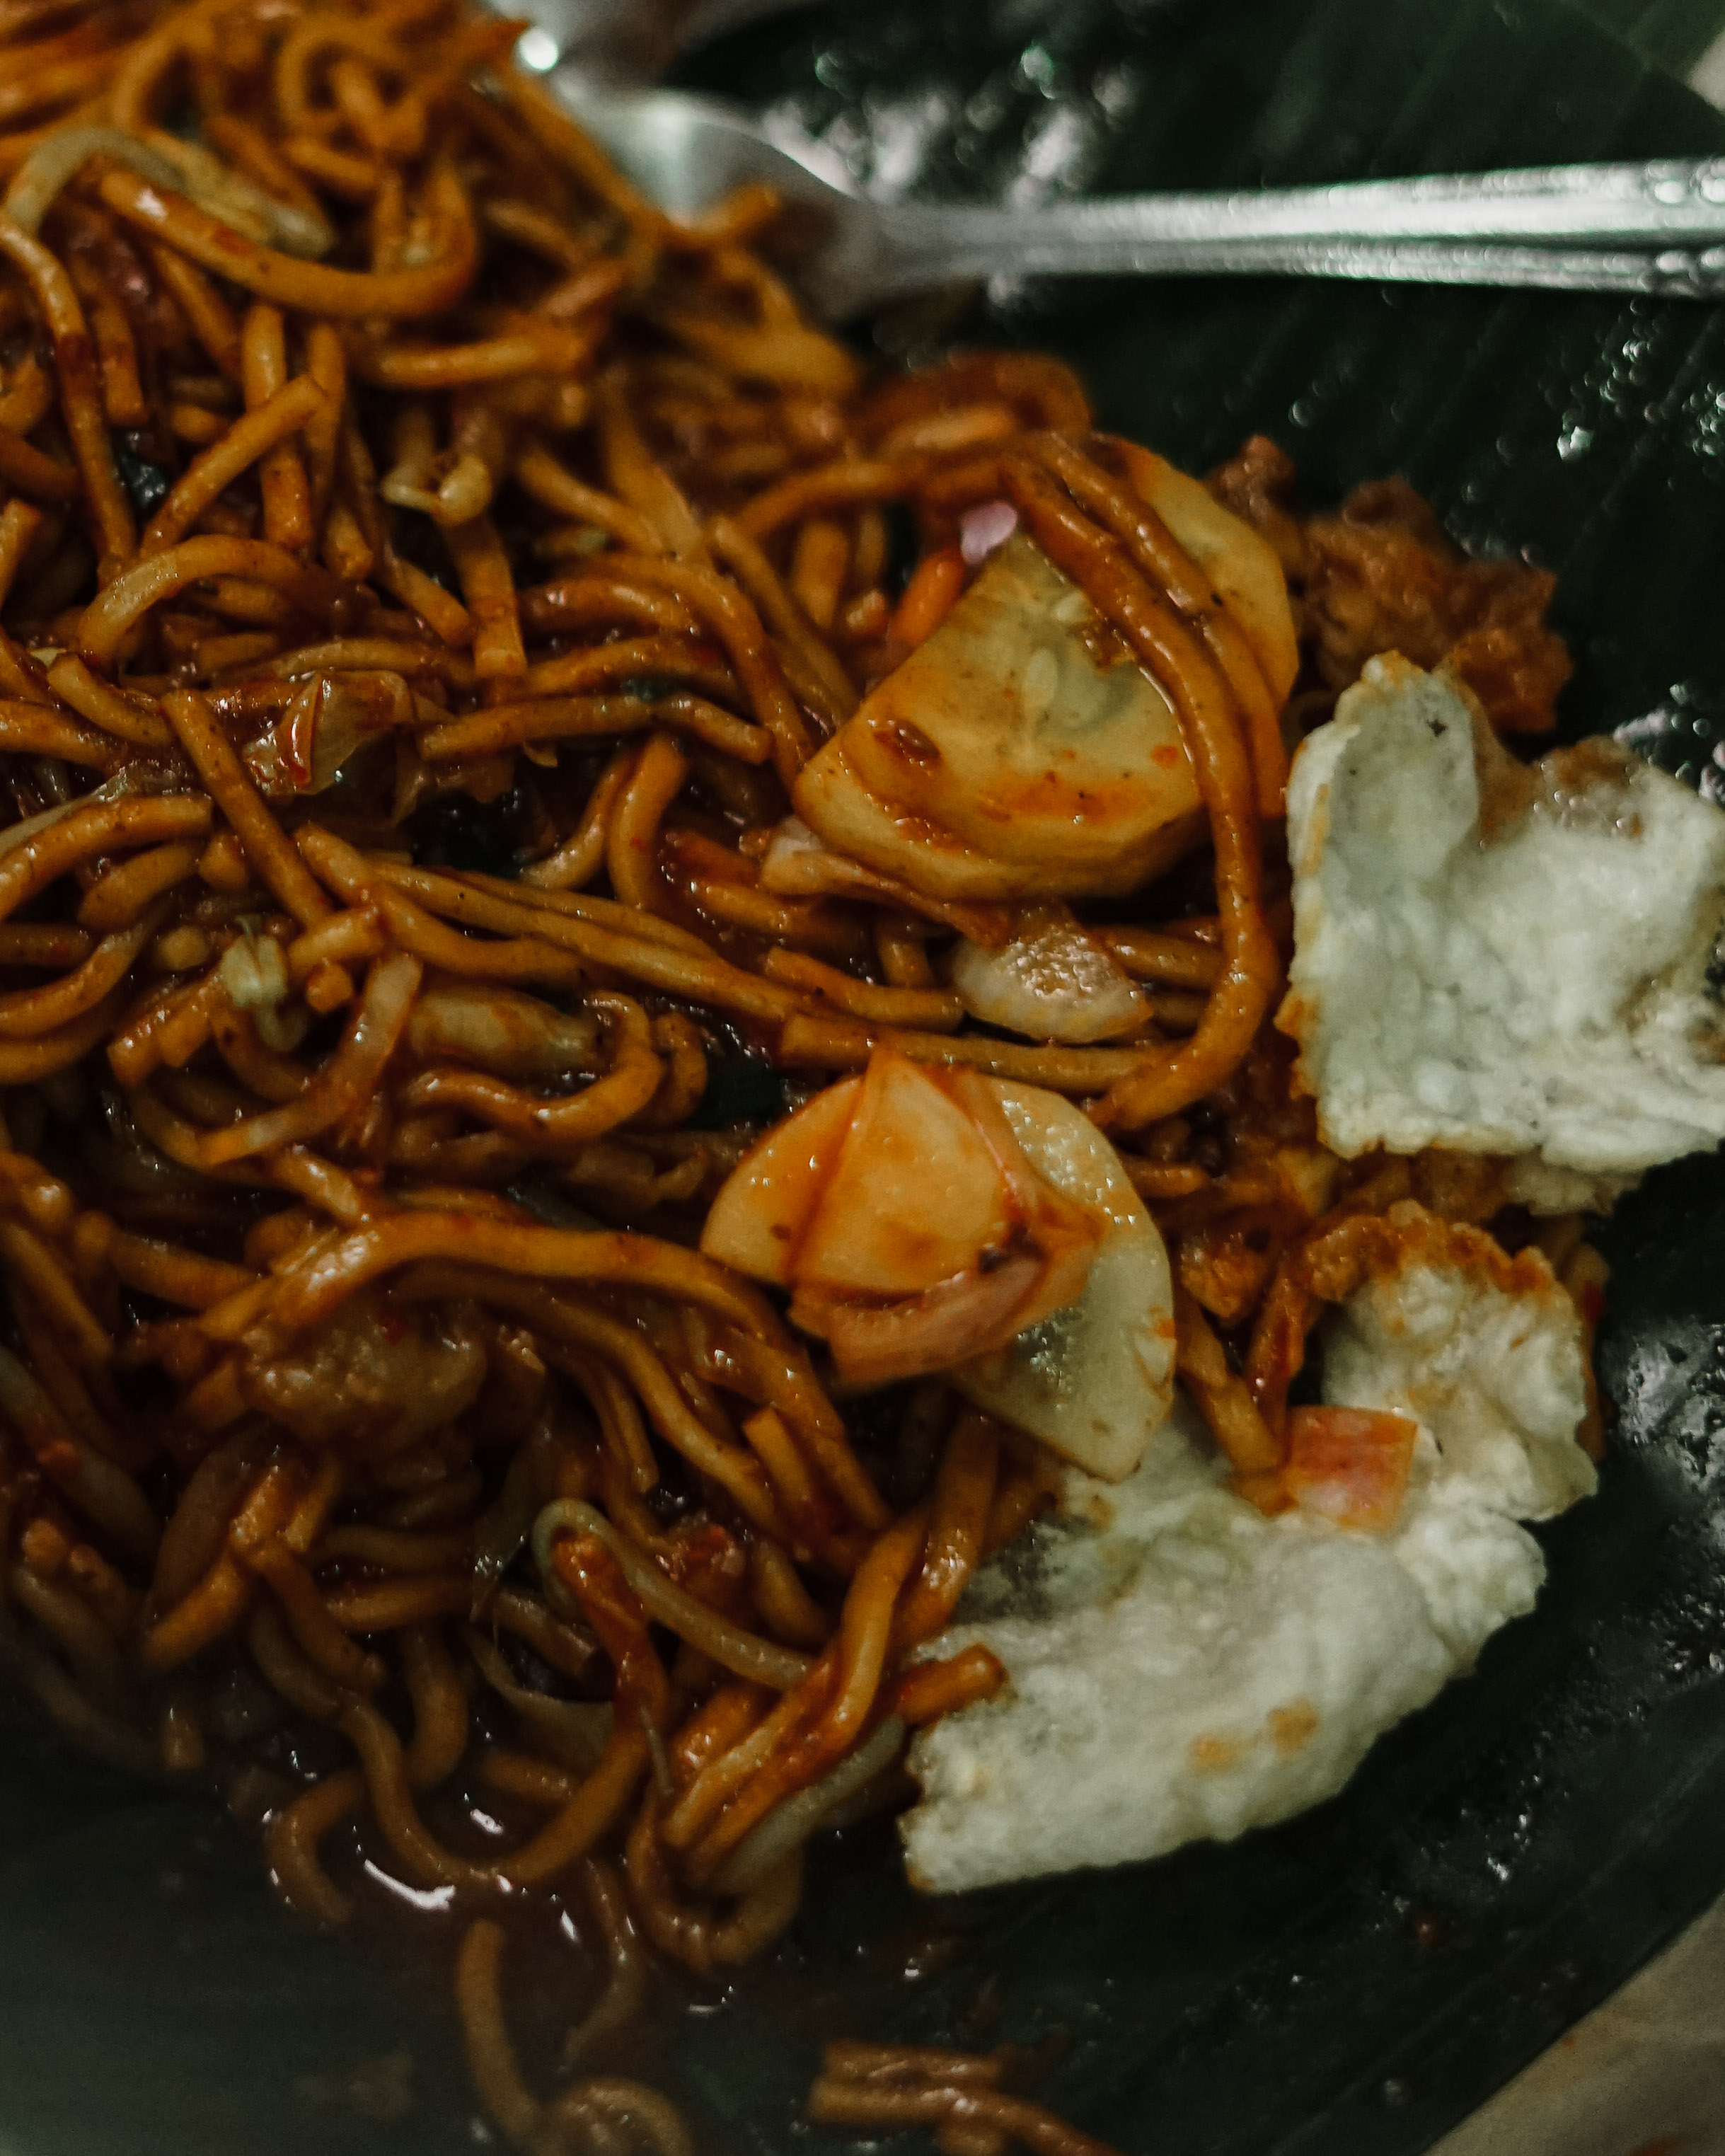Mie: (0, 165, 1491, 1837)
